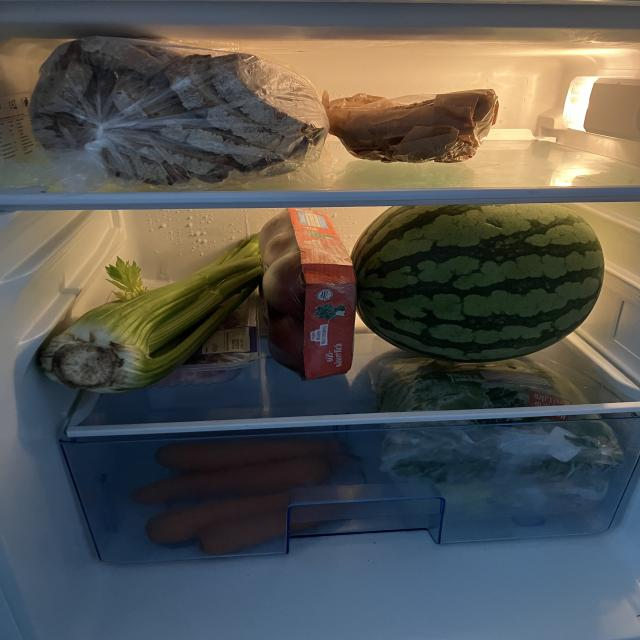Apples: (256, 208, 361, 387)
Celery: (33, 232, 250, 391)
Vegetable: (394, 364, 606, 498)
Watermelon: (368, 195, 610, 362)
bread: (29, 28, 321, 181), (322, 81, 500, 162)
carrot: (126, 441, 356, 557)
